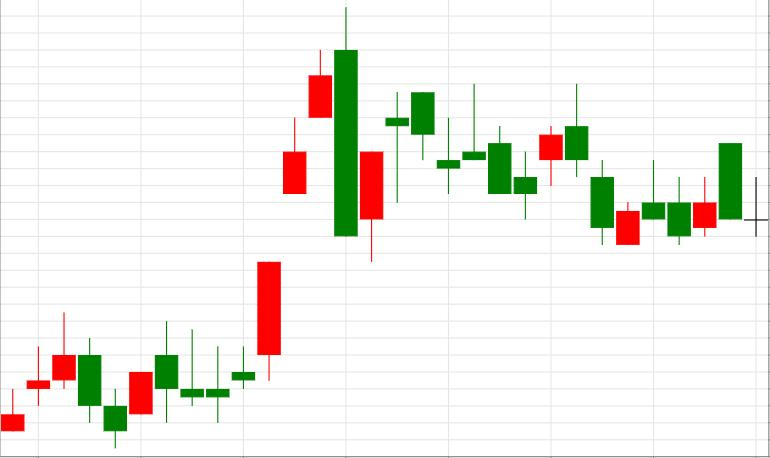bearish_engulfing_fall: (206, 7, 358, 422)
